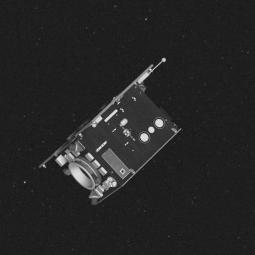proba_2: (32, 52, 192, 212)
